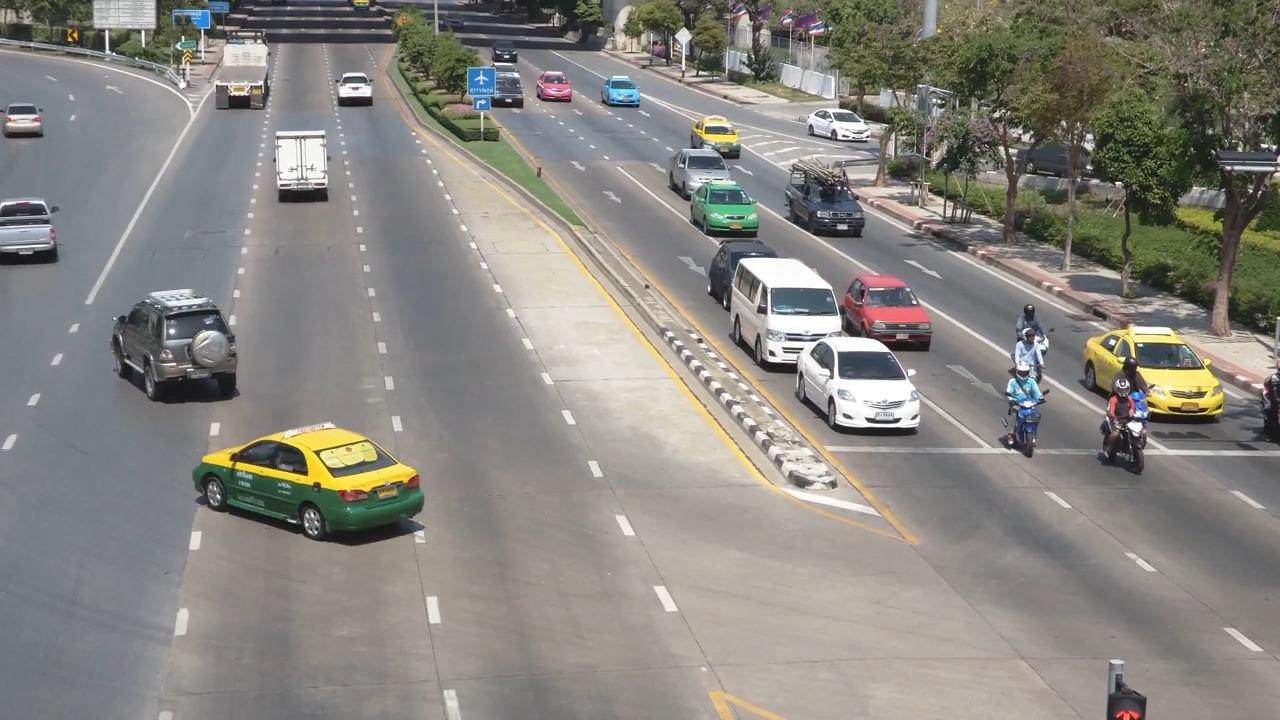CAR: (191, 417, 443, 550), (102, 283, 265, 414), (1084, 310, 1228, 425), (796, 332, 934, 439), (733, 252, 846, 372), (844, 259, 945, 354), (261, 125, 350, 222), (780, 159, 869, 240), (0, 191, 79, 268), (680, 175, 766, 236), (655, 135, 723, 190), (796, 105, 868, 151), (323, 66, 387, 117), (0, 100, 59, 150), (527, 65, 582, 110), (675, 108, 729, 145), (596, 71, 640, 112), (483, 33, 524, 65)
HGV_BUS: (201, 24, 278, 132)
MOTOR: (1092, 367, 1152, 479), (990, 365, 1052, 451), (1008, 323, 1047, 384), (1015, 291, 1045, 352)
